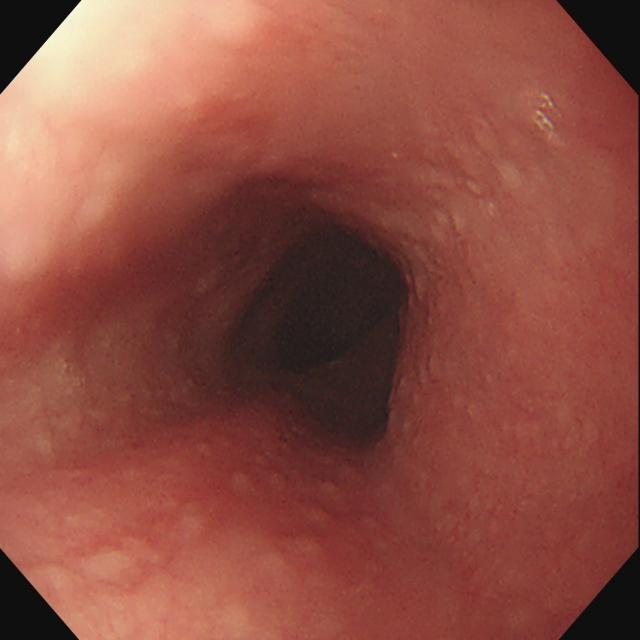E: (274, 266, 389, 369)
J: (534, 93, 563, 150)
